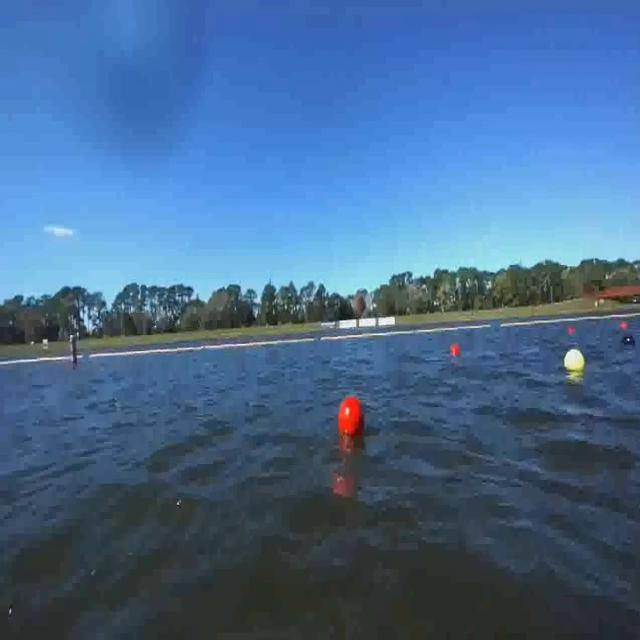black-buoy: (621, 336, 636, 348)
red-buoy: (338, 396, 364, 442), (451, 345, 461, 357), (567, 326, 576, 334)
yellow-buoy: (564, 349, 585, 373)
